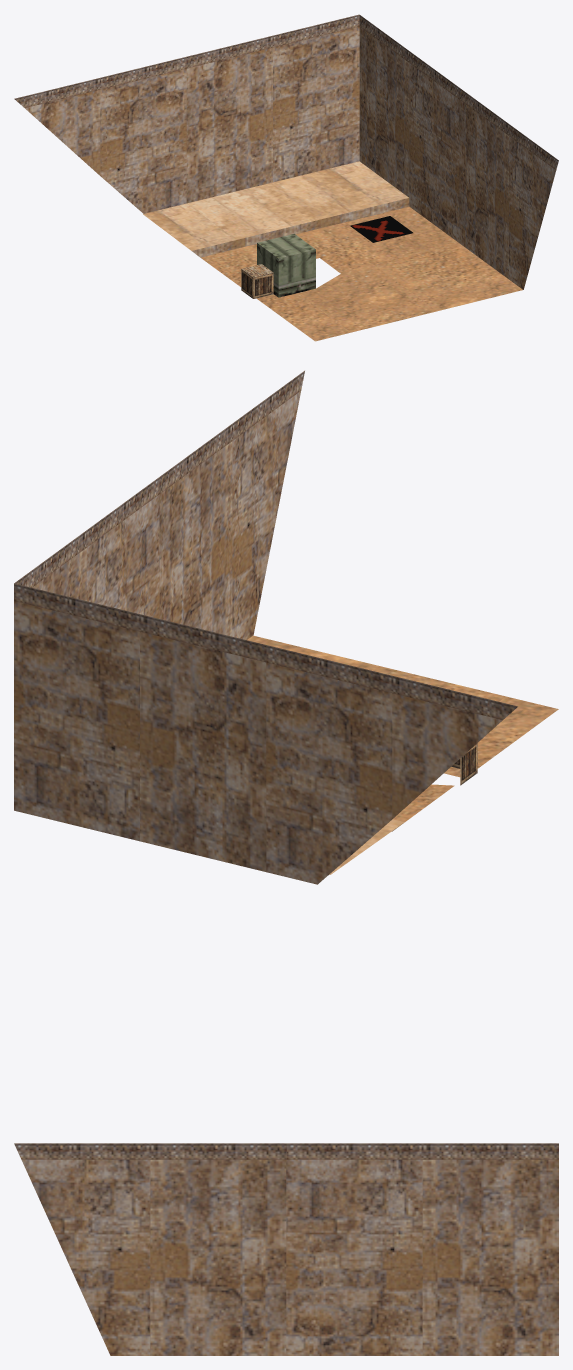
File: tutorialMapUnShadowed.fbx
3 renders of one model, top to bottom at view 1: azimuth 30°, elevation 25°; view 2: azimuth 150°, elevation 25°; view 3: azimuth 270°, elevation 25°, orthographic. The views are drawn at different scales.
Visible parts, largest first — view 1: UnShadow; view 2: UnShadow; view 3: UnShadow.
Part boxes in pixels (bbox=[...]): UnShadow: bbox=[14, 14, 558, 341]; UnShadow: bbox=[14, 370, 558, 884]; UnShadow: bbox=[14, 1143, 558, 1355].
Size of the model in its own units: 45.35 by 19.52 by 45.35.
